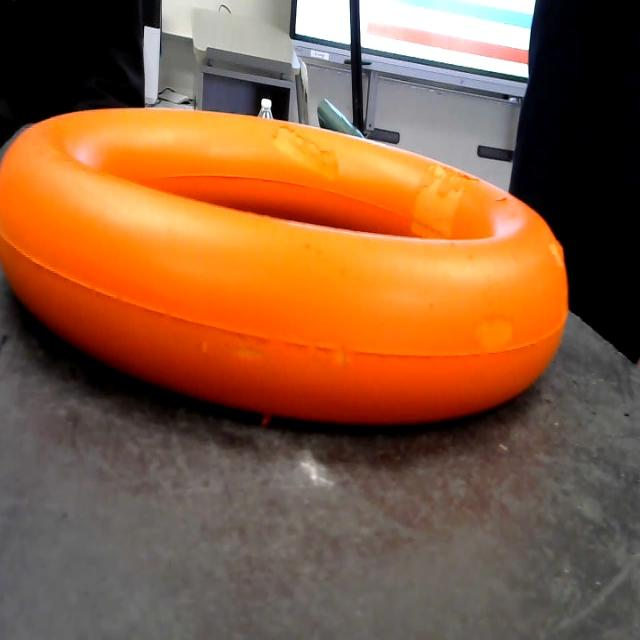note: (0, 96, 583, 437)
